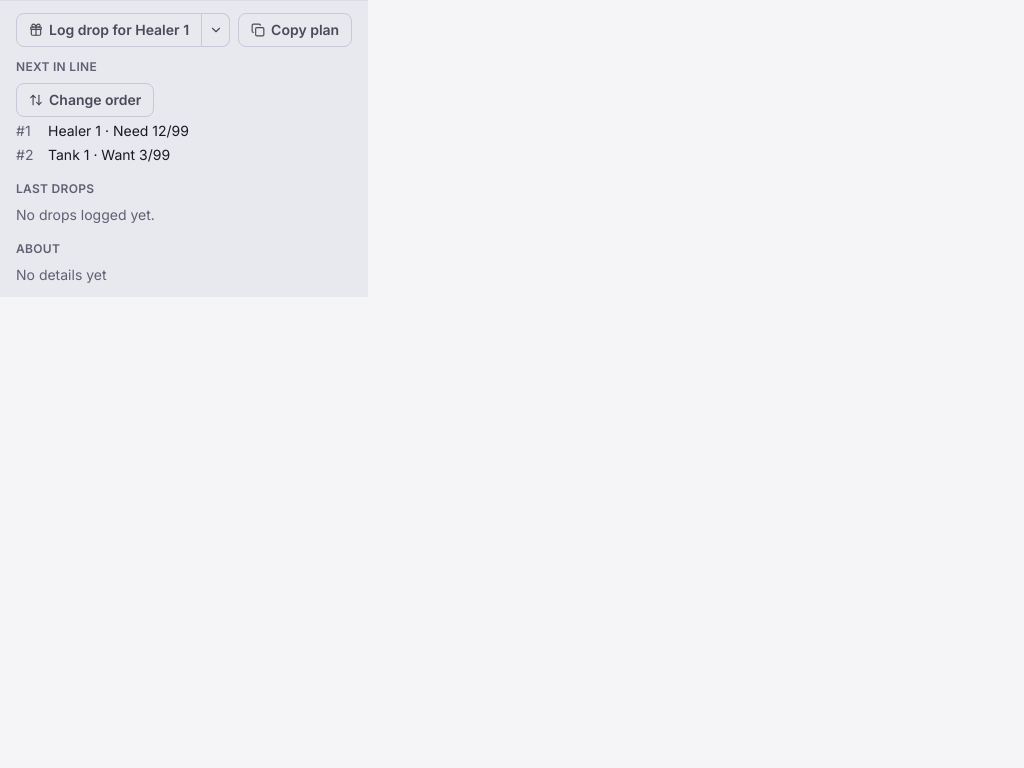
LogDropButton: the picker (D-6, vet M-2) › opens a dialog named for the farm: the queue with #n, Not in the queue, then Nobody, with #1 checked and the one tab stop
Expected: the text "No drops logged yet." is shown, [16,206,155,223]
Click the button named "More recipients" at (216, 30), box [202,13,230,47]
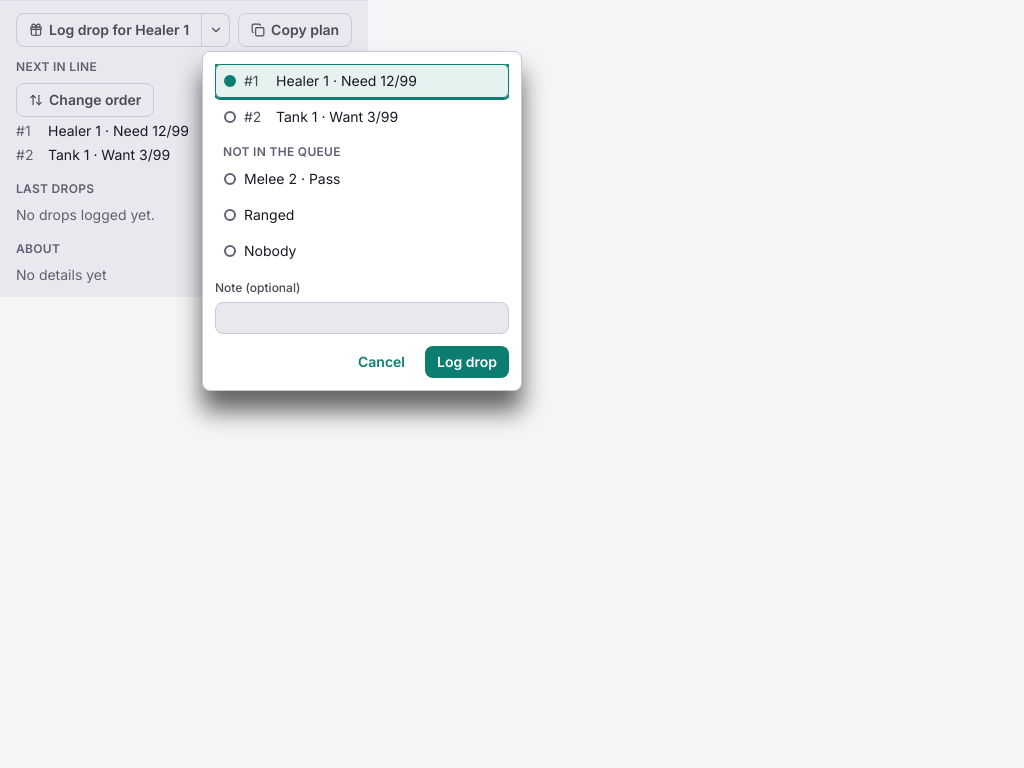
Expected: the list item "#1 Healer 1 · Need 12/99" is shown, [16,121,189,141]
Expected: the radio buttons read "#1 Healer 1 · Need 12/99", "#2 Tank 1 · Want 3/99", "Melee 2 · Pass", "Ranged", "Nobody", in this order, [215,64,509,98]; [224,108,398,125]; [224,170,340,187]; [224,206,294,223]; [224,242,296,259]
